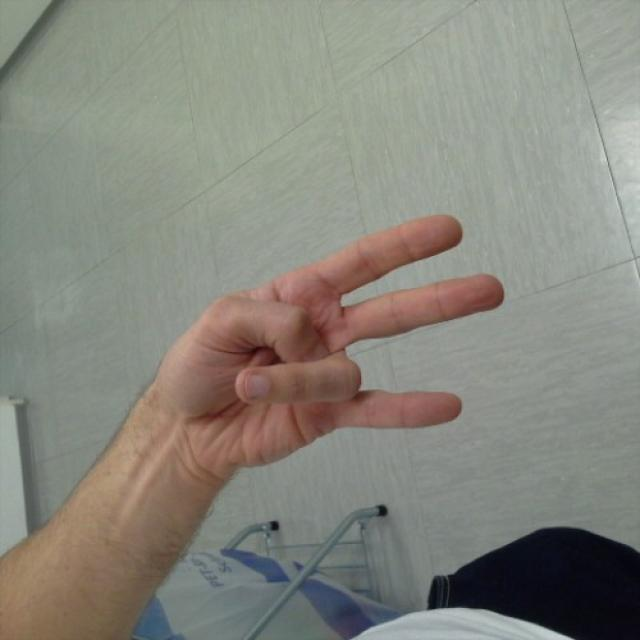scissors: (154, 211, 506, 411)
